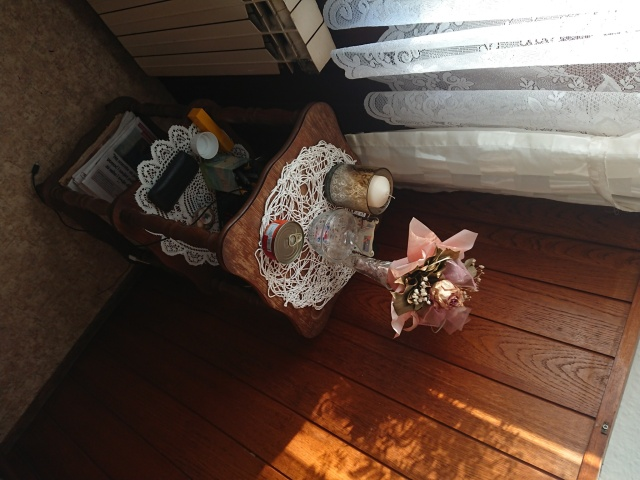Gavrilovic Pork Liver Pate 100g: (259, 218, 305, 265)
